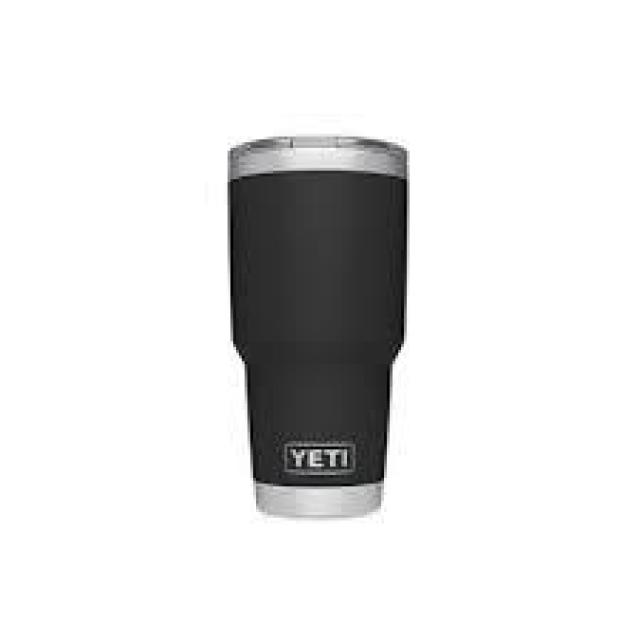bottle: (223, 129, 411, 516)
